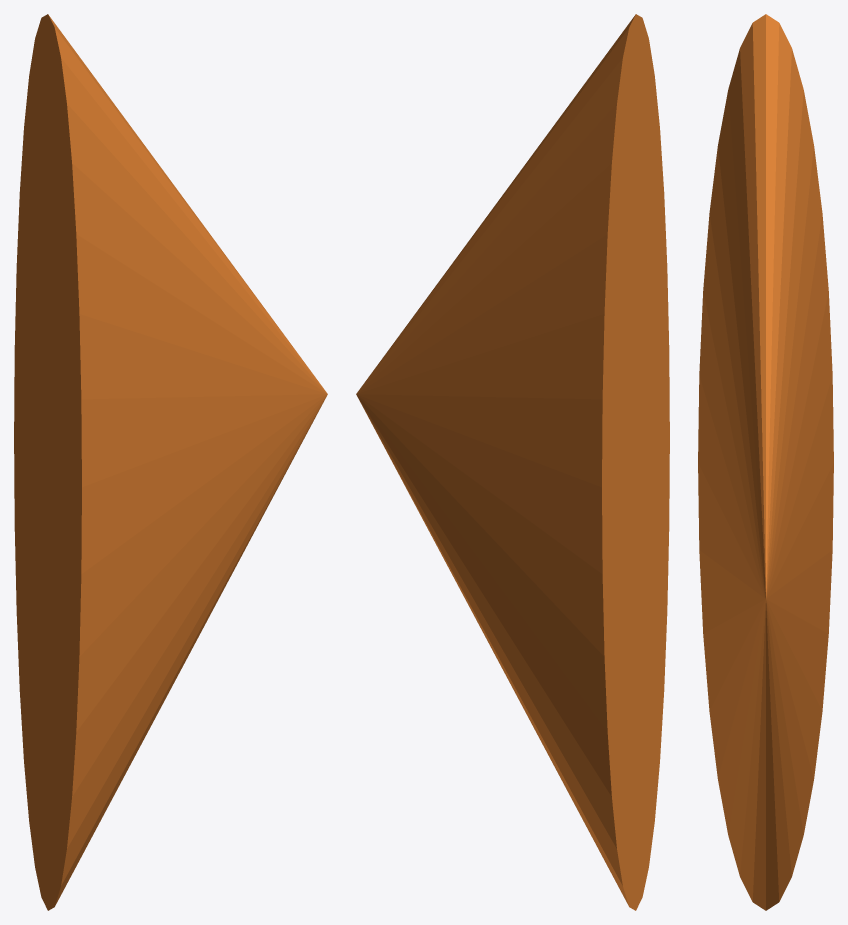
File: speedPassive.glb
3 views of the same model, side by side, from view 1: azimuth 30°, elevation 25°; view 2: azimuth 150°, elevation 25°; view 3: azimuth 270°, elevation 25° (orthographic).
Parts seen in each view (by area): view 1: Cone; view 2: Cone; view 3: Cone.
Boxes of the visible parts, x1,y1,x2,y2 form: Cone: (14, 14, 327, 910); Cone: (356, 14, 669, 910); Cone: (698, 14, 833, 910).
Size of the model in its own units: 1.12 by 3.44 by 0.4726.
